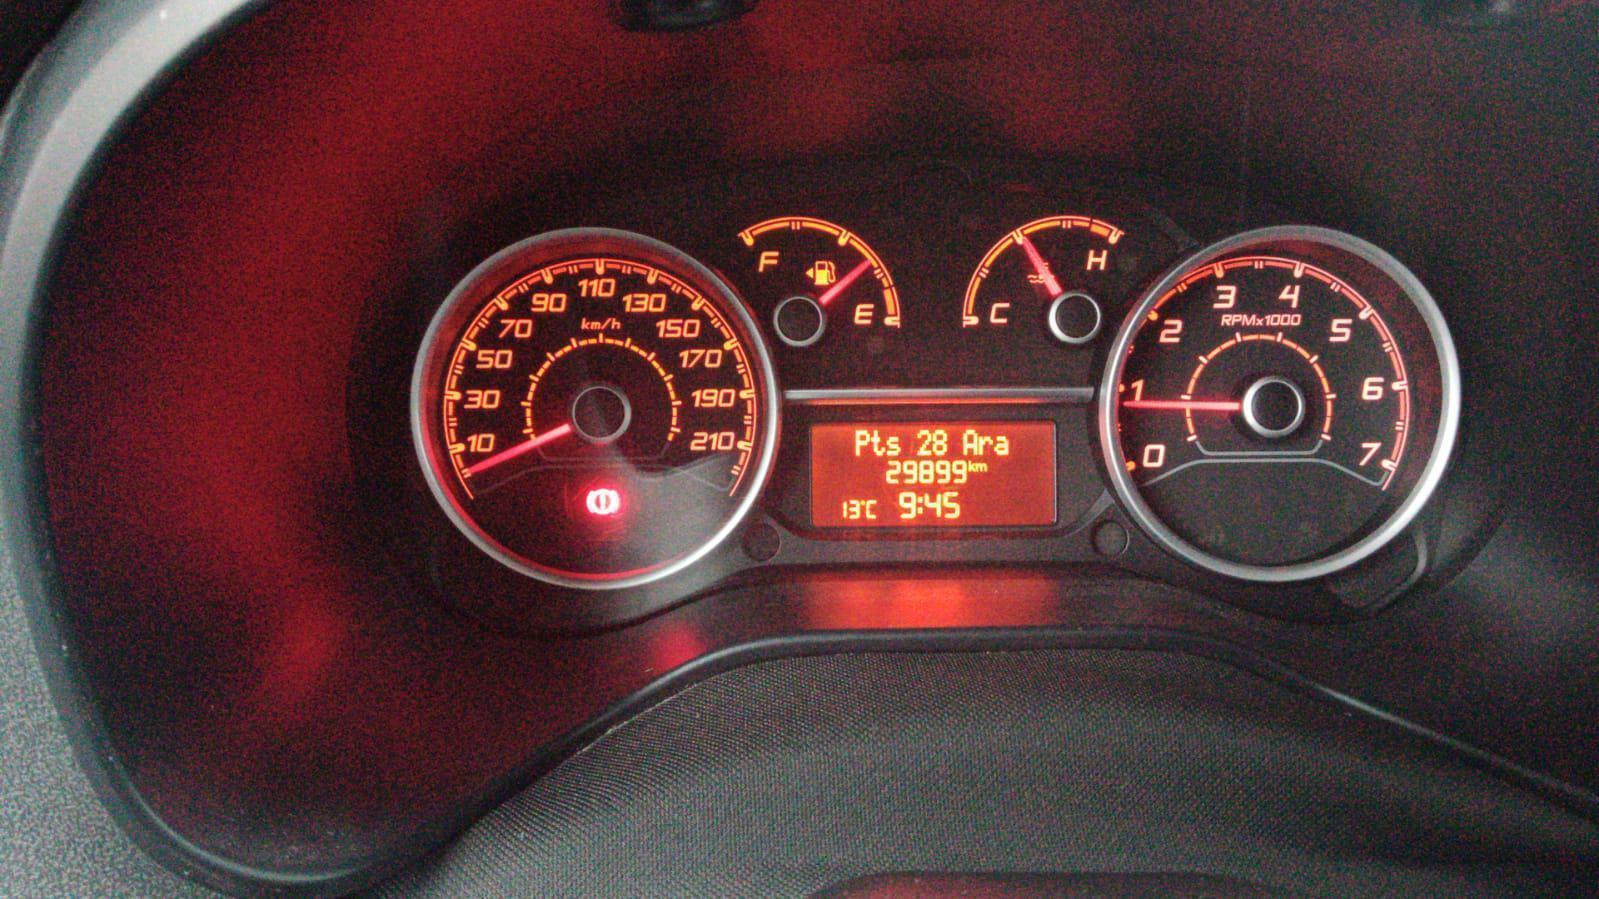1: (841, 498, 848, 519)
2: (916, 428, 931, 457), (885, 459, 902, 485)
3: (848, 497, 859, 519)
4: (923, 491, 942, 520)
5: (943, 490, 962, 520)
8: (932, 428, 950, 456), (918, 458, 933, 483)
9: (897, 490, 916, 520), (935, 458, 951, 484), (951, 458, 968, 484), (902, 458, 917, 485)
X: (869, 429, 886, 458), (853, 428, 870, 457), (962, 428, 979, 456), (977, 434, 994, 456), (994, 434, 1009, 457), (887, 434, 902, 456), (866, 498, 879, 520), (916, 494, 923, 516), (976, 462, 988, 473), (968, 459, 975, 472)
odometer: (808, 420, 1056, 529)
